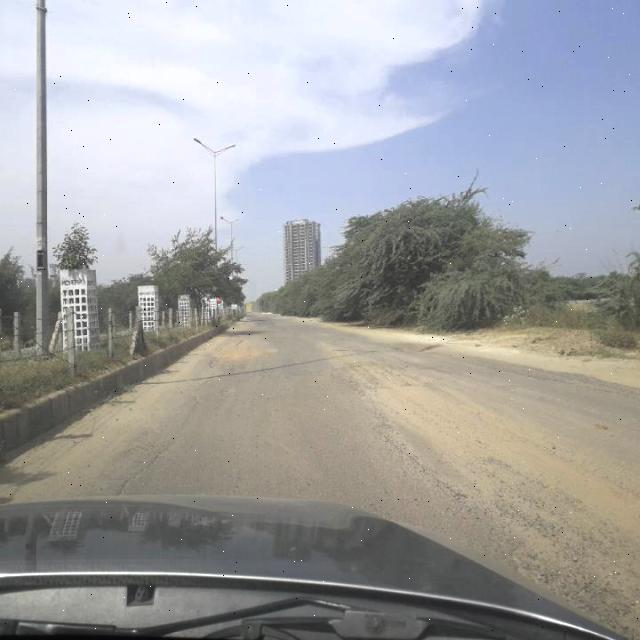D00: (110, 386, 200, 498)
D40: (348, 353, 640, 579), (204, 328, 278, 372)
